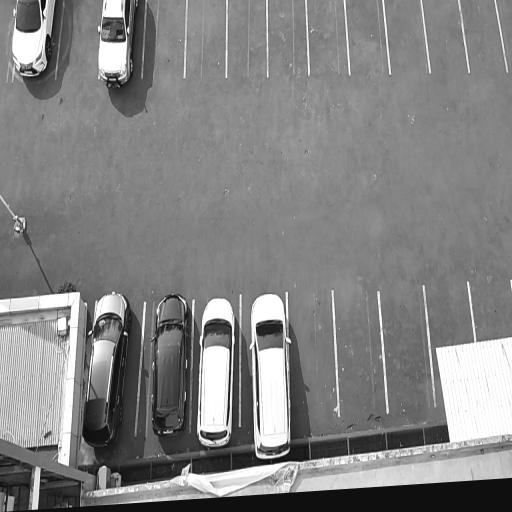Car: (81, 290, 135, 448), (247, 290, 294, 463), (145, 291, 191, 440), (195, 293, 237, 453), (9, 0, 61, 81), (94, 0, 141, 88)
Space Available: (380, 286, 435, 411), (333, 289, 387, 416), (288, 291, 338, 417), (56, 0, 101, 78), (459, 0, 507, 72), (422, 0, 469, 73), (384, 0, 430, 74), (143, 0, 186, 78), (345, 0, 389, 75), (425, 283, 475, 348), (307, 0, 350, 75), (186, 0, 227, 78), (268, 0, 308, 75), (228, 0, 267, 76), (468, 280, 512, 342)
